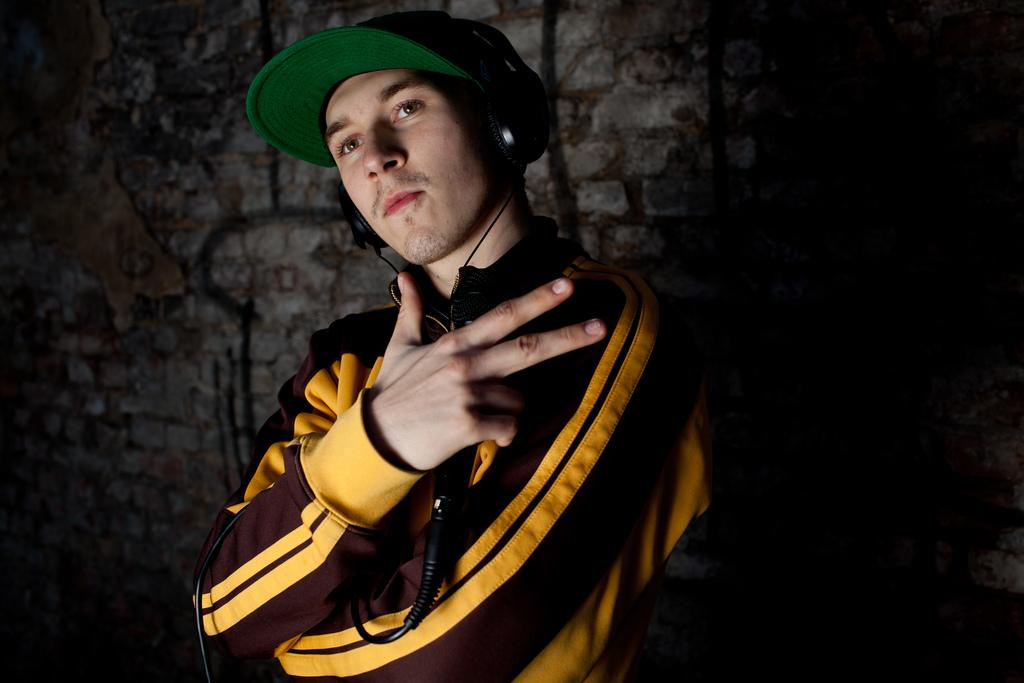Hat: (244, 13, 550, 171)
